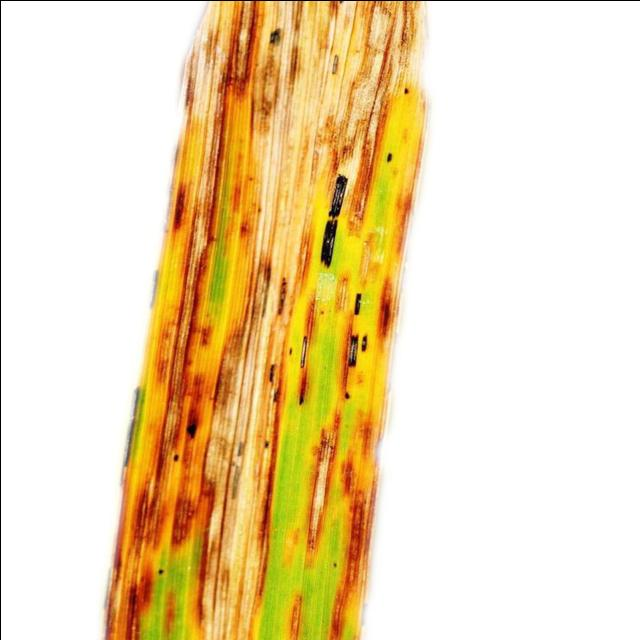Narrow brown: (90, 0, 480, 640)
